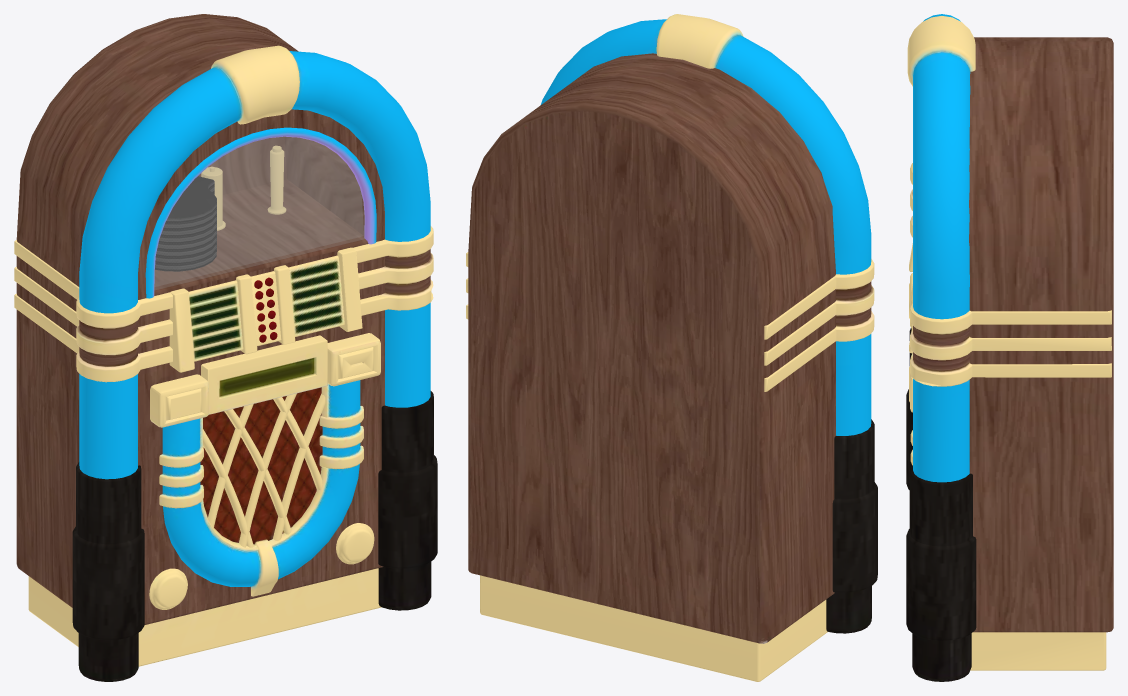
The model's file is jukebox.glb.
3 renders of one model, left to right at view 1: azimuth 30°, elevation 25°; view 2: azimuth 150°, elevation 25°; view 3: azimuth 270°, elevation 25°, orthographic. The views are drawn at different scales.
Visible parts, largest first — view 1: Jukebox_Jukebox_Mat_0, Jukebox_Glass_Mat_0; view 2: Jukebox_Jukebox_Mat_0; view 3: Jukebox_Jukebox_Mat_0.
Part boxes in pixels (left/top/right/bottom): Jukebox_Jukebox_Mat_0: left=14, top=14, right=437, bottom=681; Jukebox_Glass_Mat_0: left=154, top=137, right=364, bottom=289; Jukebox_Jukebox_Mat_0: left=466, top=14, right=877, bottom=681; Jukebox_Jukebox_Mat_0: left=906, top=14, right=1113, bottom=681.
Size of the model in its own units: 1.02 by 1.6 by 0.5228.
2 materials, 1 textured.
